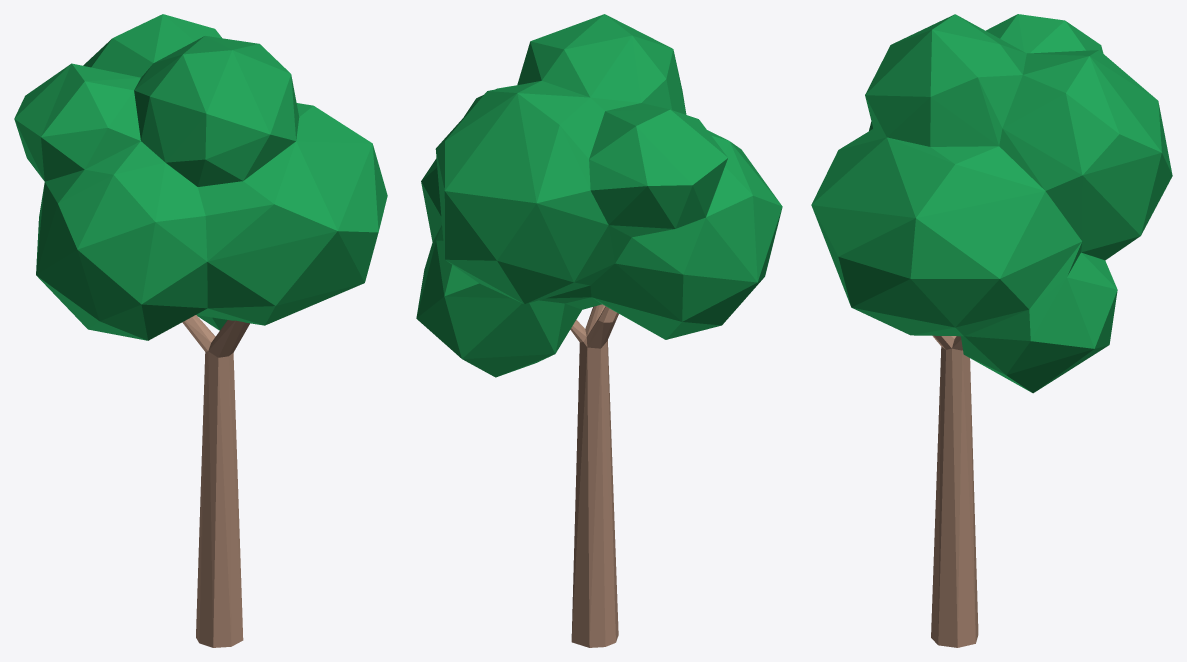
The model's file is tree10.fbx.
The picture shows the model from 3 angles, left to right: view 1: azimuth 30°, elevation 25°; view 2: azimuth 150°, elevation 25°; view 3: azimuth 270°, elevation 25°; orthographic projection. The views are drawn at different scales.
Visible parts, largest first — view 1: treetype1; view 2: treetype1; view 3: treetype1.
Part boxes in pixels (left/top/right/bottom): treetype1: left=14, top=14, right=387, bottom=647; treetype1: left=416, top=14, right=782, bottom=647; treetype1: left=811, top=14, right=1172, bottom=647.
Size of the model in its own units: 108 by 193 by 104.
